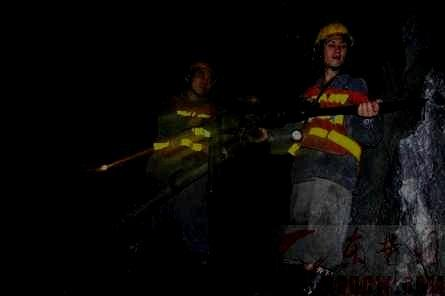helmet: (314, 23, 354, 67), (186, 55, 216, 96)
